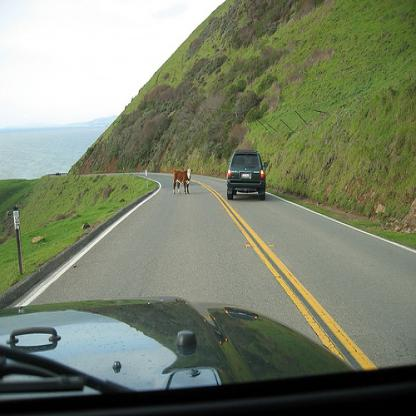car: (227, 149, 272, 202)
cow: (174, 169, 195, 195)
